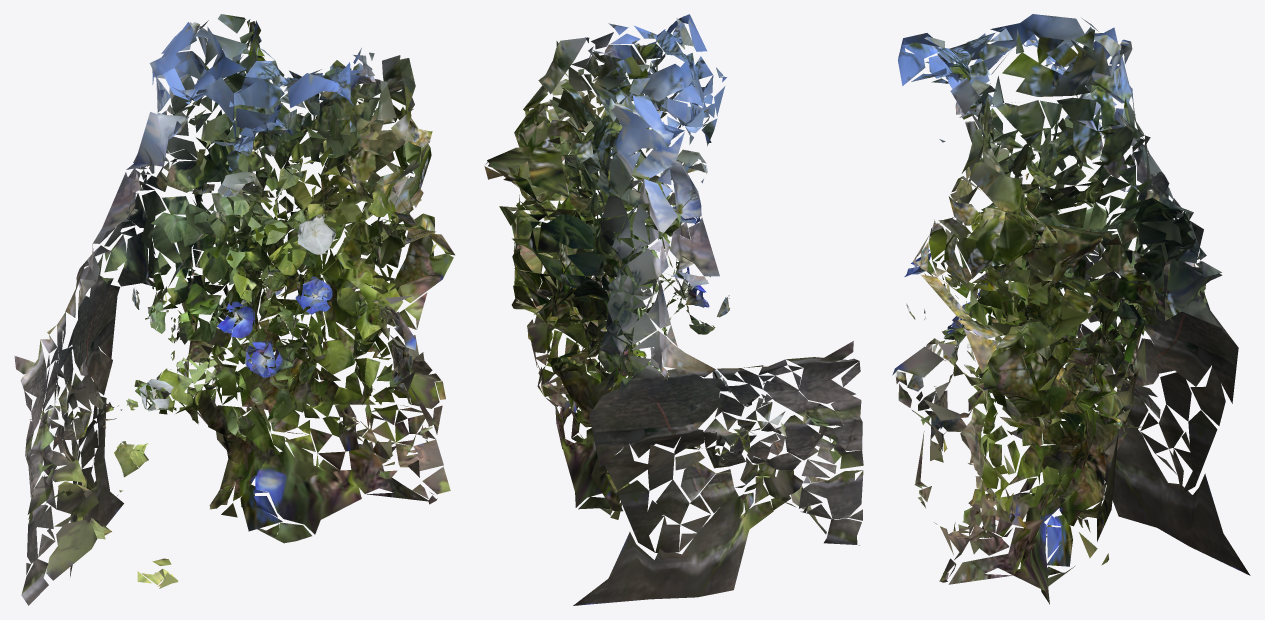
The model's file is morning_glory.glb.
3 renders of one model, left to right at view 1: azimuth 30°, elevation 25°; view 2: azimuth 150°, elevation 25°; view 3: azimuth 270°, elevation 25°, orthographic. The views are drawn at different scales.
Visible parts, largest first — view 1: Object_2, Object_3, Object_4; view 2: Object_2, Object_3, Object_4; view 3: Object_3, Object_2, Object_4.
Part boxes in pixels (x1,y1,x2,y2): Object_2: [20, 14, 454, 584]; Object_3: [14, 19, 453, 605]; Object_4: [25, 22, 432, 583]; Object_2: [499, 16, 863, 552]; Object_3: [484, 29, 861, 605]; Object_4: [485, 14, 863, 521]; Object_3: [892, 14, 1250, 603]; Object_2: [902, 26, 1221, 584]; Object_4: [898, 33, 1225, 604].
Size of the model in its own units: 1.03 by 1.29 by 0.7448.
1 material, 1 textured.
